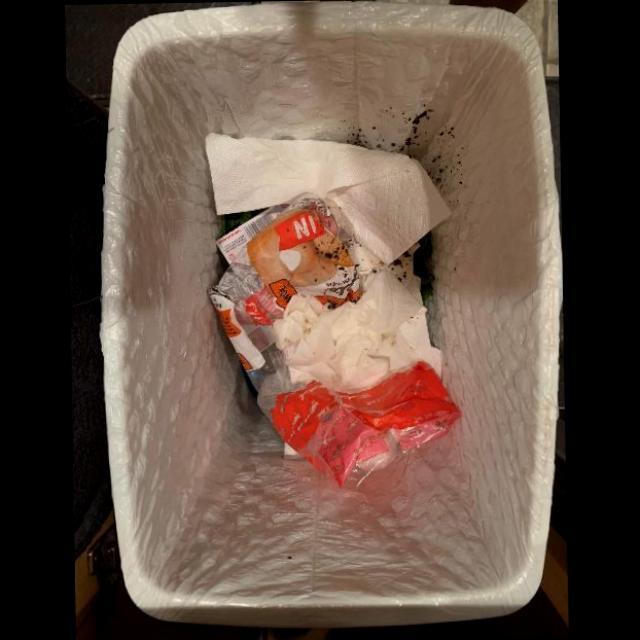giay: (205, 132, 451, 267), (273, 259, 443, 387)
tui_ni_long: (246, 341, 461, 500), (207, 194, 364, 369)
